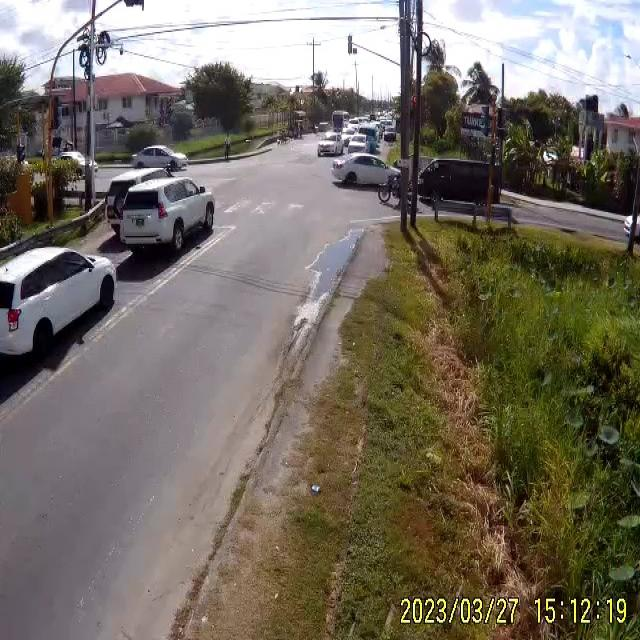car: (2, 242, 118, 374), (105, 173, 217, 254), (416, 157, 501, 222), (332, 154, 399, 189), (132, 147, 190, 173), (316, 131, 342, 158), (345, 134, 368, 153), (380, 122, 398, 145)
